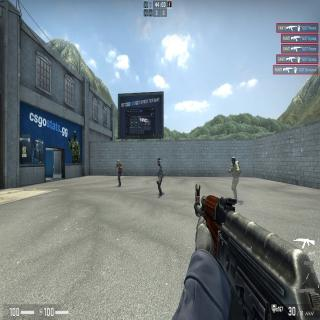CT-Body: (231, 157, 239, 199)
CT-Head: (232, 156, 236, 164)
T-Body: (116, 159, 122, 187)
T-Head: (118, 160, 120, 164)
